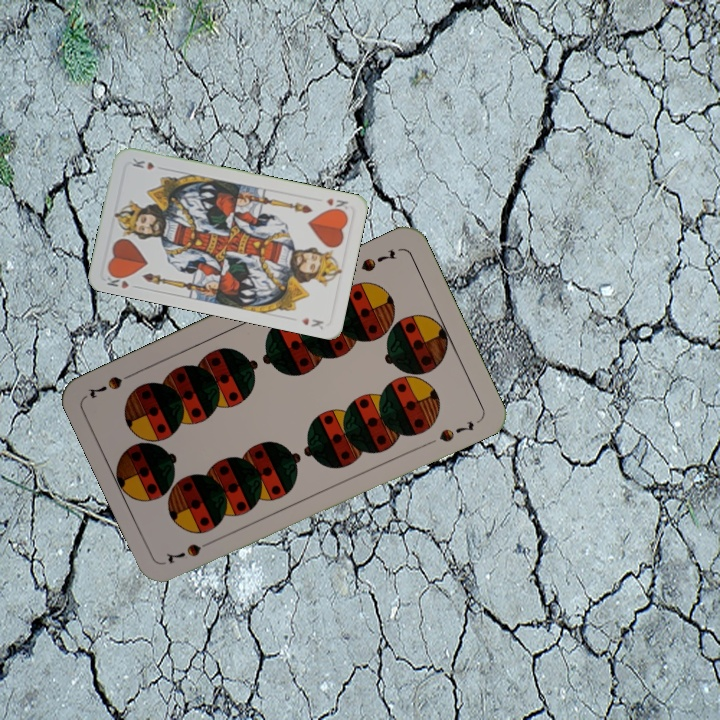HK: (103, 269, 142, 291), (322, 194, 351, 212)
S7: (162, 535, 219, 566), (356, 245, 399, 275)
